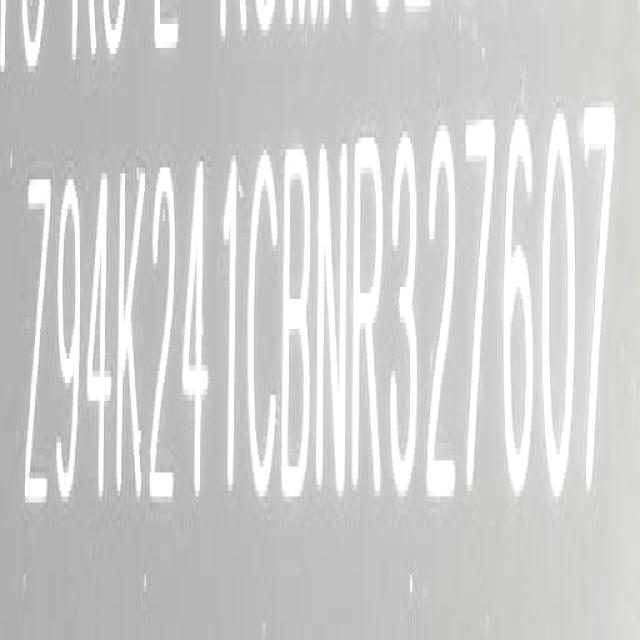0: (542, 107, 578, 509)
1: (219, 152, 243, 510)
2: (427, 128, 461, 512), (149, 158, 178, 516)
3: (392, 128, 423, 511)
4: (184, 155, 214, 516), (87, 170, 115, 514)
6: (502, 111, 537, 509)
7: (585, 94, 620, 505), (462, 108, 498, 507)
9: (52, 175, 80, 522)
B: (284, 141, 316, 508)
C: (248, 148, 280, 510)
K: (118, 167, 148, 513)
N: (318, 136, 349, 509)
R: (352, 131, 386, 509)
Z: (22, 171, 50, 532)
